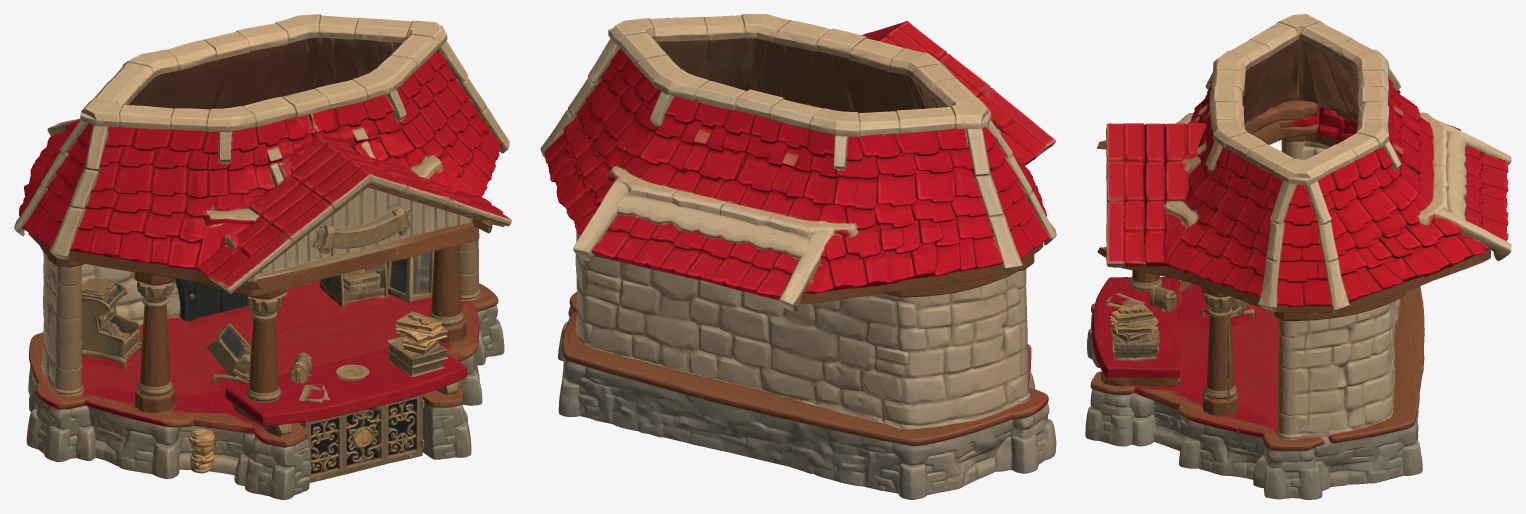
File: Bank_A2.glb
The picture shows the model from 3 angles, left to right: view 1: azimuth 30°, elevation 25°; view 2: azimuth 150°, elevation 25°; view 3: azimuth 270°, elevation 25°; orthographic projection. The views are drawn at different scales.
Size of the model in its own units: 1.9 by 1.29 by 1.63.
1 material, 1 textured.
